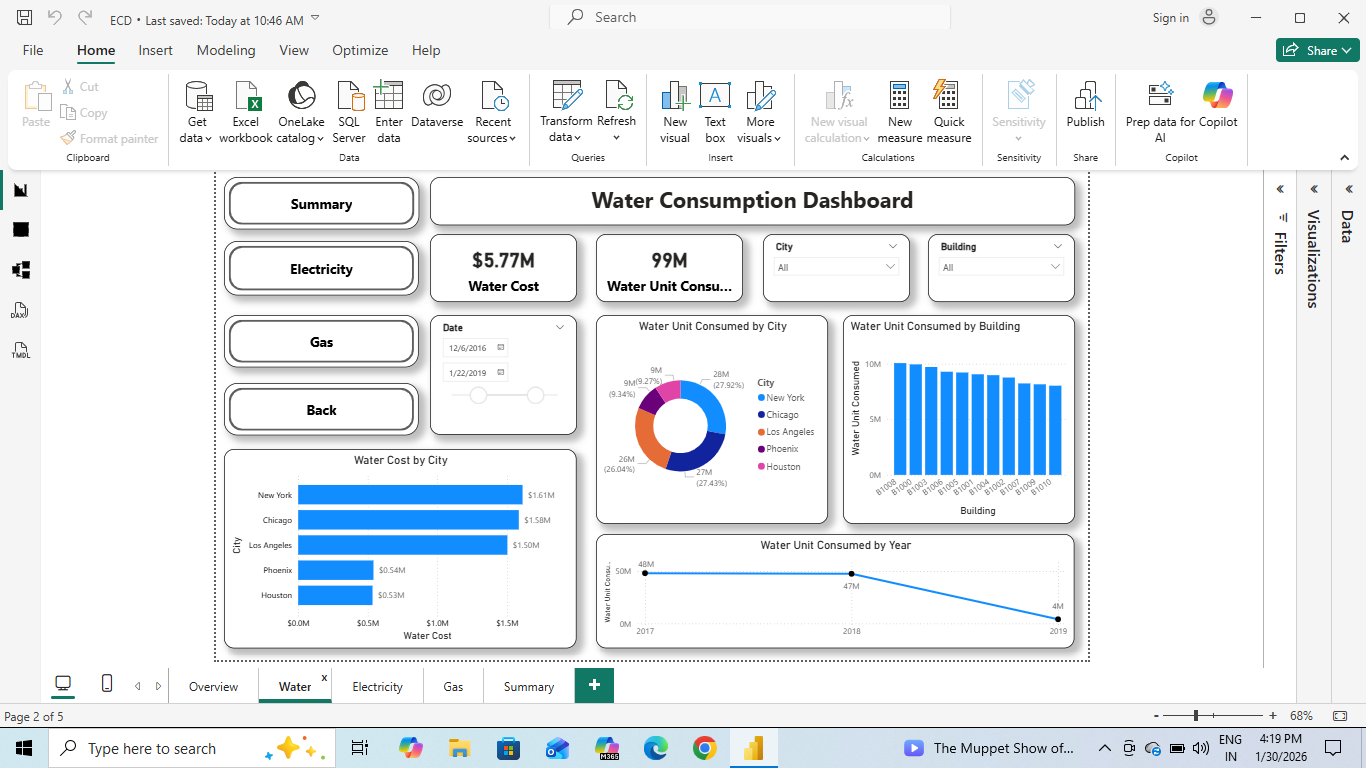

The dashboard page shown, as its layout file describes it:
{"tool":"powerbi","page":{"name":"Water","canvas":[1280,720],"ordinal":1},"visuals":[{"type":"clusteredBarChart","fields":{"Category":["Building Master.City"],"Y":["Energy Consumptions.Water Cost"]},"box":[12.4,410.2,517.5,293.2],"z":0},{"type":"card","fields":{"Values":["Energy Consumptions.Water Cost"]},"box":[313.8,93.6,216.1,100.5],"z":1000},{"type":"card","fields":{"Values":["Energy Consumptions.Water Unit Consumed"]},"box":[558.8,93.6,216.1,100.5],"z":2000},{"type":"donutChart","fields":{"Category":["Building Master.City"],"Y":["Energy Consumptions.Water Unit Consumed"]},"box":[558.8,213.3,341.3,306.9],"z":3000},{"type":"slicer","fields":{"Values":["Building Master.City"]},"box":[803.8,93.6,216.1,100.5],"z":4000},{"type":"slicer","fields":{"Values":["Building Master.Building"]},"box":[1046,93.6,216.1,100.5],"z":5000},{"type":"slicer","fields":{"Values":["Energy Consumptions.Date"]},"box":[313.8,213.3,216.1,176.2],"z":6000},{"type":"lineChart","fields":{"Category":["Energy Consumptions.Date.Variation.Date Hierarchy.Year"],"Y":["Energy Consumptions.Water Unit Consumed"]},"box":[559,535.4,703,167.6],"z":7000},{"type":"actionButton","title":"Water","box":[12.4,104.6,286.3,79.8],"z":8000},{"type":"actionButton","title":"Water","box":[12.4,213.3,286.3,77.1],"z":9000},{"type":"textbox","box":[314.2,10.5,947.8,70.7],"z":10000},{"type":"actionButton","title":"Water","box":[12.4,312.4,286.3,77.1],"z":11000},{"type":"columnChart","fields":{"Category":["Building Master.Building"],"Y":["Energy Consumptions.Water Unit Consumed"]},"box":[920.8,213.3,341.3,306.9],"z":12000},{"type":"actionButton","title":"Water","box":[11.8,10.5,286.7,77.2],"z":13000}]}

Visuals, with their boxes on the page's 1280x720 design canvas (x1, y1, x2, y2). These are canvas units, not pixel positions in the 1366x768 screenshot, which may show the page scaled, cropped or inside an application window:
clusteredBarChart - Building Master.City x Energy Consumptions.Water Cost: [12,410,530,703]
card - Energy Consumptions.Water Cost: [314,94,530,194]
card - Energy Consumptions.Water Unit Consumed: [559,94,775,194]
donutChart - Building Master.City x Energy Consumptions.Water Unit Consumed: [559,213,900,520]
slicer - Building Master.City: [804,94,1020,194]
slicer - Building Master.Building: [1046,94,1262,194]
slicer - Energy Consumptions.Date: [314,213,530,390]
lineChart - Energy Consumptions.Date.Variation.Date Hierarchy.Year x Energy Consumptions.Water Unit Consumed: [559,535,1262,703]
"Water" actionButton: [12,105,299,184]
"Water" actionButton: [12,213,299,290]
textbox: [314,10,1262,81]
"Water" actionButton: [12,312,299,390]
columnChart - Building Master.Building x Energy Consumptions.Water Unit Consumed: [921,213,1262,520]
"Water" actionButton: [12,10,298,88]
